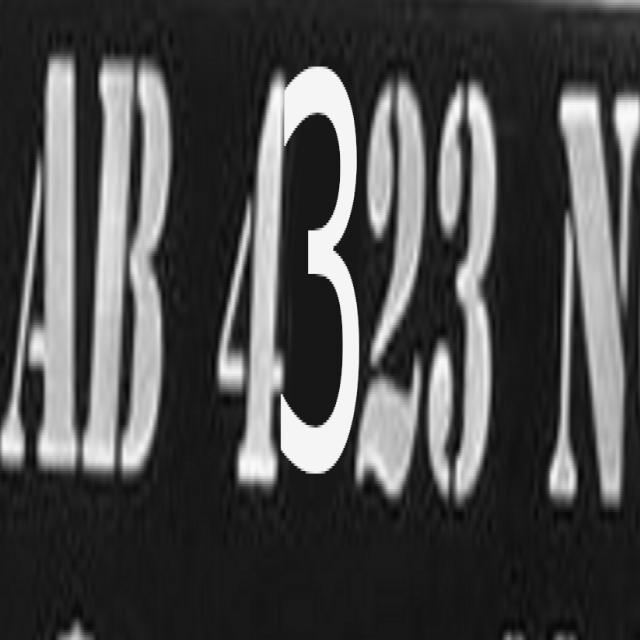2: (358, 63, 430, 503)
3: (440, 68, 500, 537), (288, 68, 348, 489)
4: (216, 63, 276, 484)
A: (3, 49, 88, 483)
B: (88, 54, 190, 482)
N: (530, 63, 640, 527)
